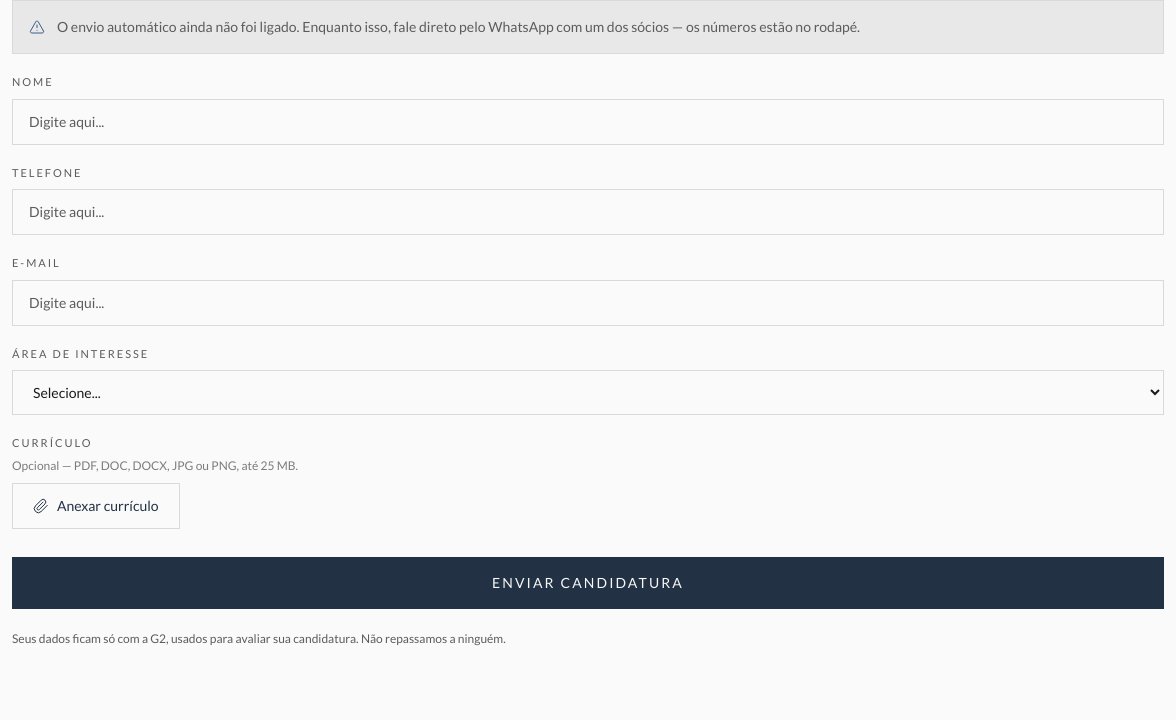
it: anexo de currículo, com o plano pago ligado › continua enviável sem anexo, porque o currículo é opcional
Step 1. Click the button "Enviar candidatura" → (588, 583), box [12,557,1164,609]
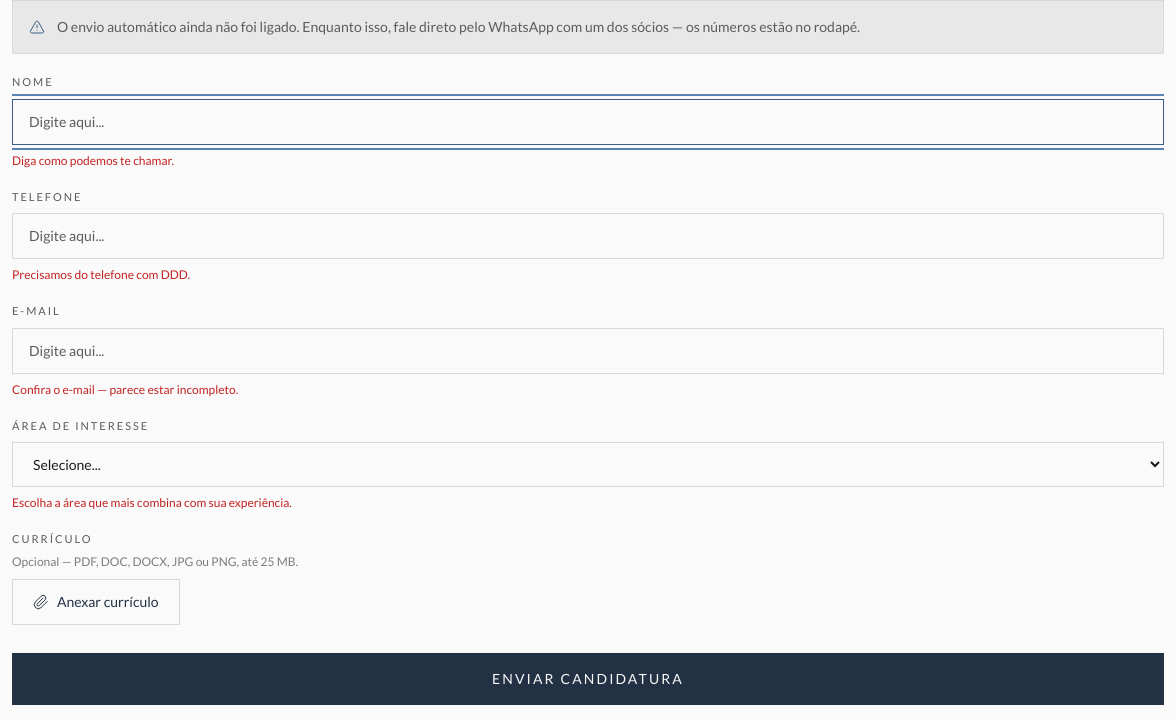
Check: the text "Diga como podemos te chamar." is shown, box [12,152,174,168]
